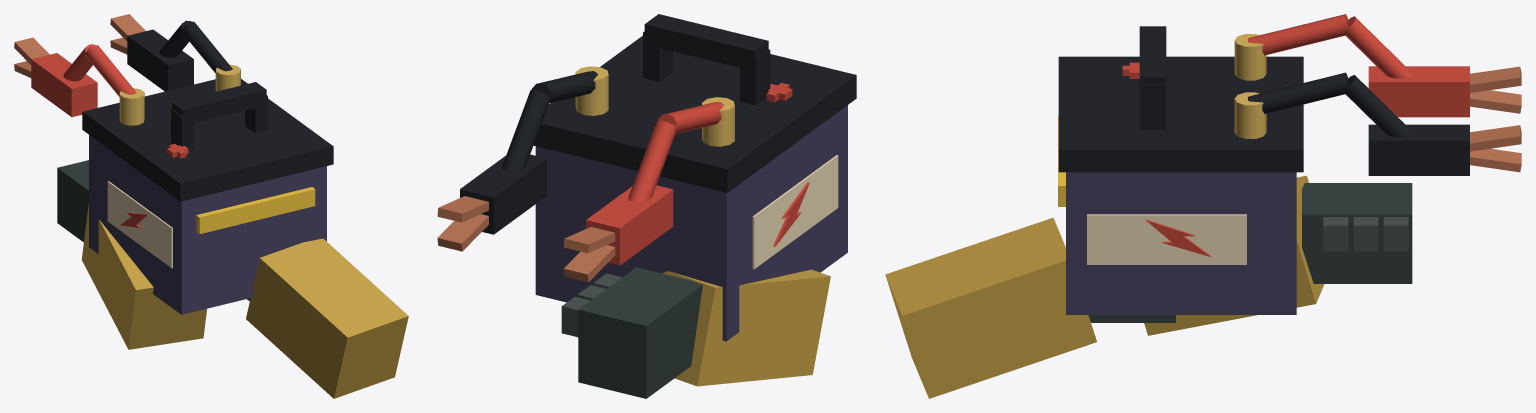
File: battery_zapper.glb
3 renders of one model, left to right at view 1: azimuth 30°, elevation 25°; view 2: azimuth 150°, elevation 25°; view 3: azimuth 270°, elevation 25°, orthographic. The views are drawn at different scales.
Visible parts, largest first — view 1: _MeshInstance3D_3618, _MeshInstance3D_3648, _MeshInstance3D_3619, _MeshInstance3D_3642, _MeshInstance3D_3625, _MeshInstance3D_3631, _MeshInstance3D_3620, _MeshInstance3D_3637, _MeshInstance3D_3634, _MeshInstance3D_3641, _MeshInstance3D_3629, _MeshInstance3D_3623 (+8 smaller); view 2: _MeshInstance3D_3618, _MeshInstance3D_3619, _MeshInstance3D_3641, _MeshInstance3D_3642, _MeshInstance3D_3620, _MeshInstance3D_3625, _MeshInstance3D_3631, _MeshInstance3D_3634, _MeshInstance3D_3624, _MeshInstance3D_3630, _MeshInstance3D_3635, _MeshInstance3D_3623 (+10 smaller); view 3: _MeshInstance3D_3618, _MeshInstance3D_3619, _MeshInstance3D_3648, _MeshInstance3D_3641, _MeshInstance3D_3620, _MeshInstance3D_3631, _MeshInstance3D_3625, _MeshInstance3D_3642, _MeshInstance3D_3629, _MeshInstance3D_3623, _MeshInstance3D_3634, _MeshInstance3D_3624 (+13 smaller).
Part boxes in pixels (box(x1,y1,x2,y2)): _MeshInstance3D_3618: box(89, 135, 326, 314); _MeshInstance3D_3648: box(246, 238, 408, 398); _MeshInstance3D_3619: box(82, 79, 333, 201); _MeshInstance3D_3642: box(81, 203, 206, 349); _MeshInstance3D_3625: box(31, 53, 97, 117); _MeshInstance3D_3631: box(127, 29, 193, 91); _MeshInstance3D_3620: box(107, 181, 172, 267); _MeshInstance3D_3637: box(196, 187, 315, 234); _MeshInstance3D_3634: box(172, 82, 266, 125); _MeshInstance3D_3641: box(57, 160, 88, 242); _MeshInstance3D_3629: box(182, 21, 232, 72); _MeshInstance3D_3623: box(85, 45, 136, 96); _MeshInstance3D_3618: box(535, 105, 847, 341); _MeshInstance3D_3619: box(533, 35, 856, 192); _MeshInstance3D_3641: box(578, 267, 702, 398); _MeshInstance3D_3642: box(662, 269, 830, 386); _MeshInstance3D_3620: box(752, 155, 838, 269); _MeshInstance3D_3625: box(586, 185, 673, 265); _MeshInstance3D_3631: box(460, 154, 546, 234); _MeshInstance3D_3634: box(644, 14, 768, 71); _MeshInstance3D_3624: box(628, 120, 676, 202); _MeshInstance3D_3630: box(502, 89, 550, 171); _MeshInstance3D_3635: box(740, 49, 770, 105); _MeshInstance3D_3623: box(658, 101, 723, 133); _MeshInstance3D_3618: box(1066, 172, 1296, 314); _MeshInstance3D_3619: box(1058, 56, 1303, 172); _MeshInstance3D_3648: box(885, 217, 1096, 398); _MeshInstance3D_3641: box(1302, 183, 1412, 283); _MeshInstance3D_3620: box(1087, 214, 1246, 264); _MeshInstance3D_3631: box(1368, 124, 1469, 175); _MeshInstance3D_3625: box(1368, 66, 1469, 117); _MeshInstance3D_3642: box(1144, 175, 1324, 335); _MeshInstance3D_3629: box(1247, 72, 1348, 113); _MeshInstance3D_3623: box(1247, 14, 1348, 55); _MeshInstance3D_3634: box(1139, 26, 1166, 85); _MeshInstance3D_3624: box(1345, 16, 1412, 78).
Size of the model in its own units: 0.1445 by 0.188 by 0.3583.
